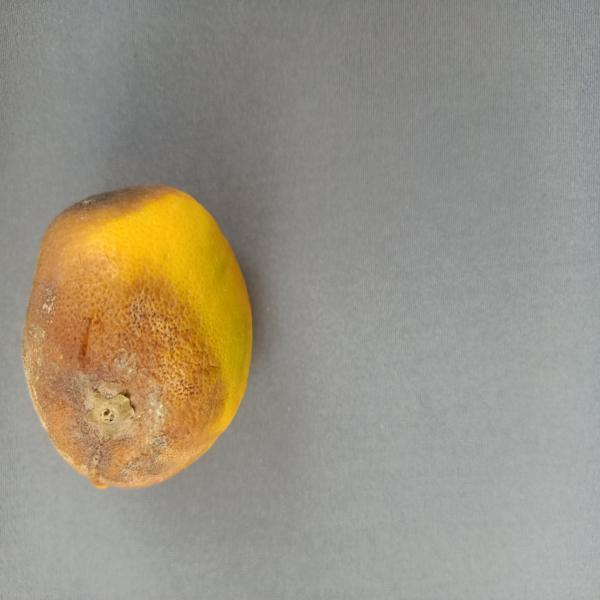Scab: (13, 150, 258, 501)
